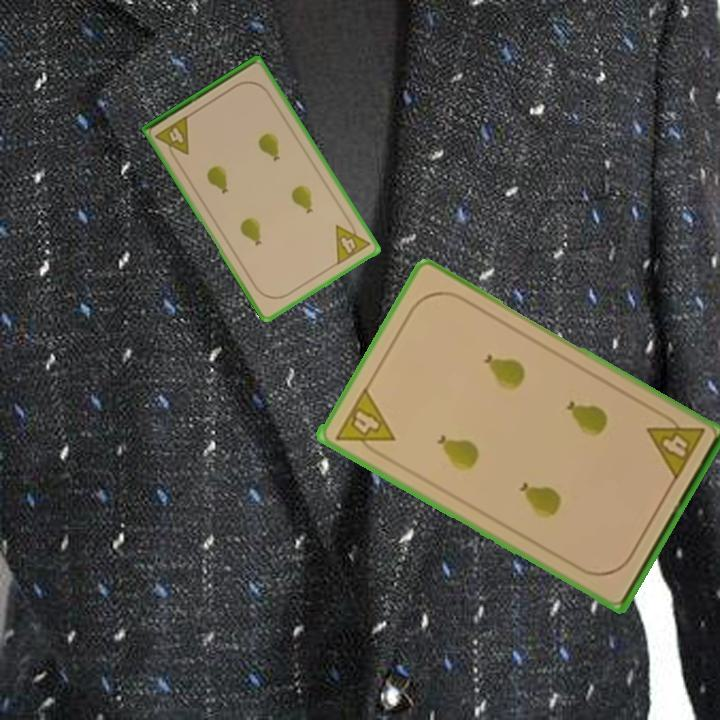4p: (331, 383, 397, 461), (643, 407, 708, 484), (332, 215, 373, 268), (152, 112, 193, 164)
